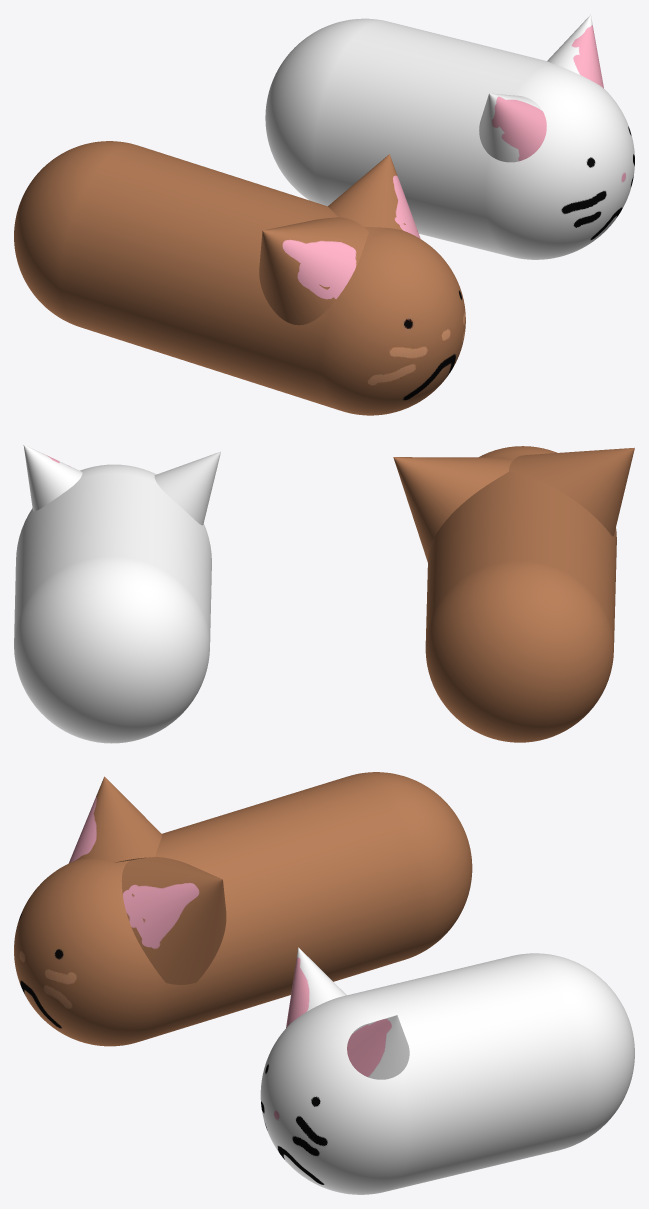
The model's file is rabbitcapsule.fbx.
The picture shows the model from 3 angles, top to bottom: view 1: azimuth 30°, elevation 25°; view 2: azimuth 150°, elevation 25°; view 3: azimuth 270°, elevation 25°; orthographic projection. The views are drawn at different scales.
Parts seen in each view (by area): view 1: node_id100 (×3), node_id107 (×3); view 2: node_id100 (×3), node_id107 (×3); view 3: node_id100 (×3), node_id107 (×3).
Boxes of the visible parts, box(x1,y1,x2,y2) form: node_id100 (×3): box(14, 141, 465, 415); node_id107 (×3): box(265, 14, 634, 259); node_id100 (×3): box(393, 446, 634, 742); node_id107 (×3): box(14, 445, 220, 743); node_id100 (×3): box(14, 772, 472, 1046); node_id107 (×3): box(260, 947, 634, 1194).
Bounding box in the file's own units: 0.4848 × 0.1664 × 0.4407.
Materials: 6 (6 with a texture image).
